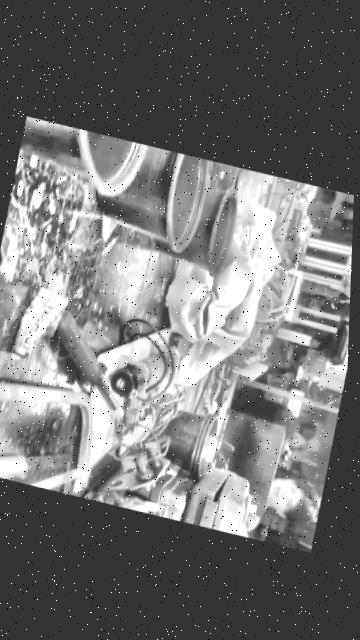pot: (96, 145, 206, 253), (20, 117, 145, 195), (155, 189, 236, 276), (157, 398, 216, 484)
